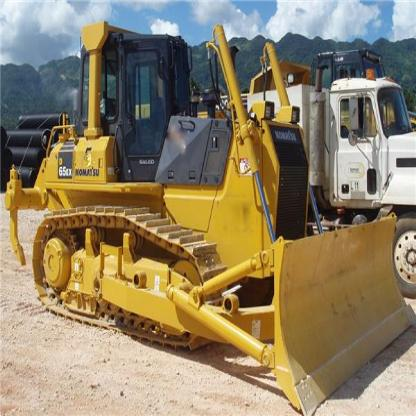bull_dozer/loader/grader: (11, 13, 415, 414)
